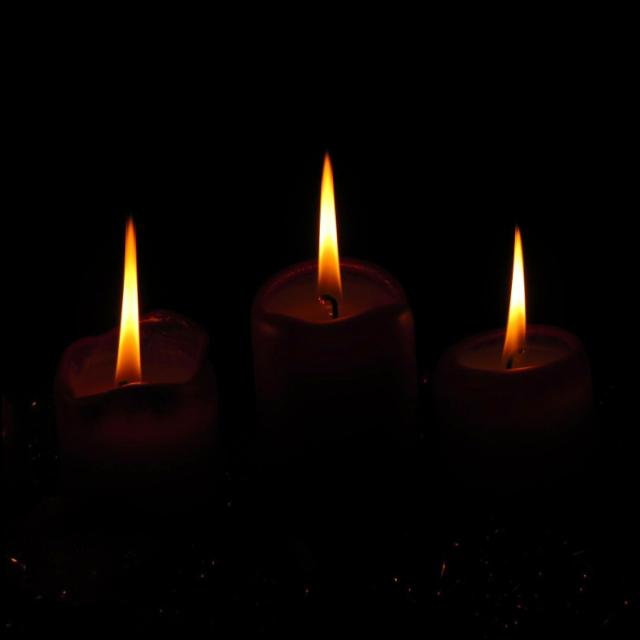Fire_Save: (246, 148, 419, 446), (49, 213, 218, 482), (434, 221, 592, 452)
